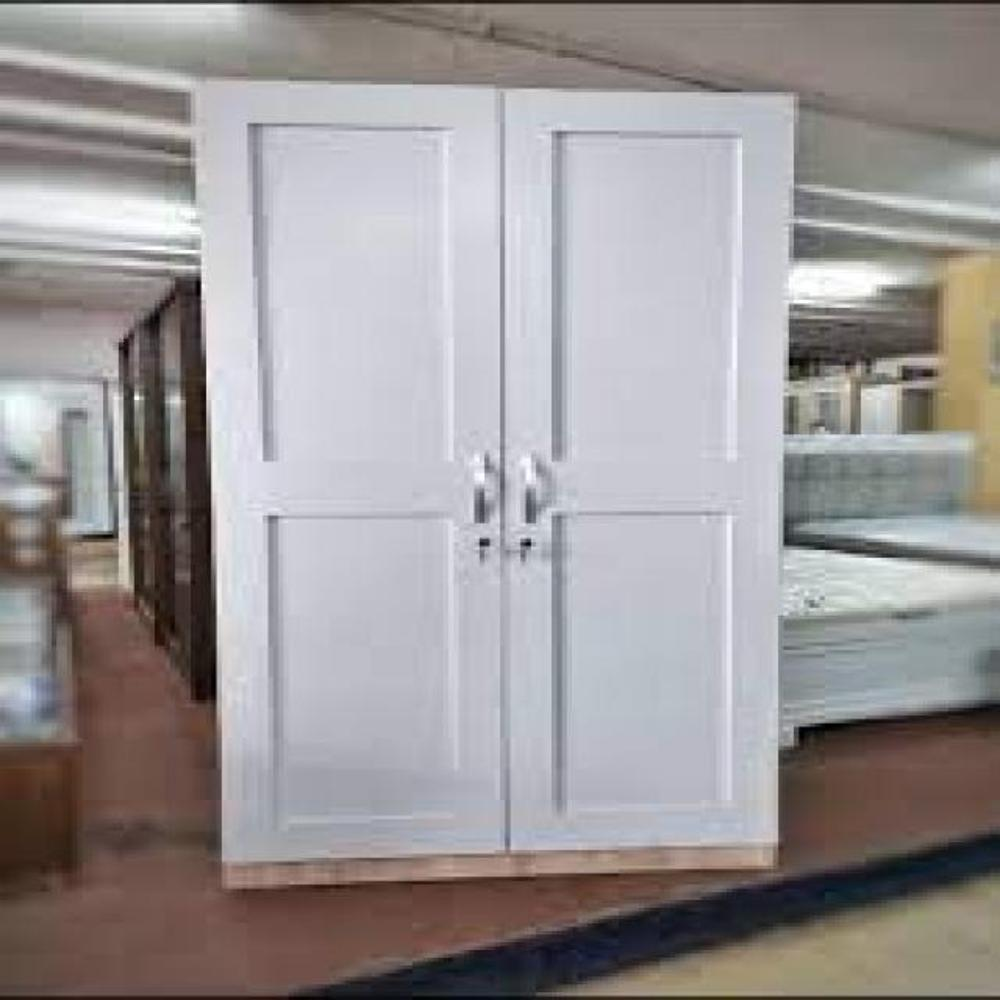cabinet: (199, 81, 791, 881)
